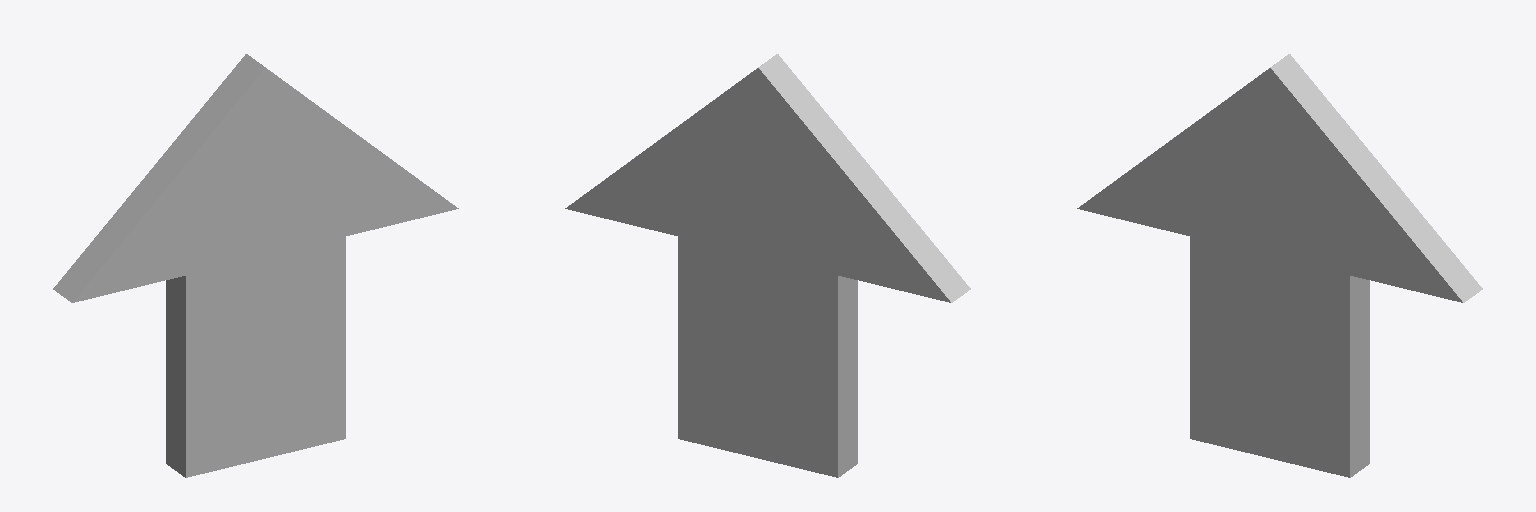
Rendered from flat_upvote.obj.
3 views of the same model, side by side, from view 1: azimuth 30°, elevation 25°; view 2: azimuth 150°, elevation 25°; view 3: azimuth 330°, elevation 25° (orthographic).
Visible parts, largest first — view 1: pCube1; view 2: pCube1; view 3: pCube1.
Boxes of the visible parts, x1=… form: pCube1: x1=53, y1=54, x2=458, y2=477; pCube1: x1=565, y1=54, x2=970, y2=477; pCube1: x1=1077, y1=54, x2=1482, y2=477.
Bounding box in the file's own units: 5.8 × 5.6 × 0.5.